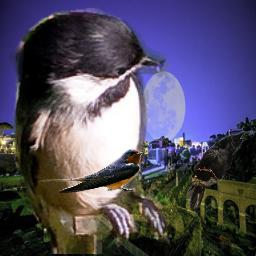Crow: (186, 130, 248, 209)
Swallow: (9, 4, 176, 254), (37, 148, 143, 193)
